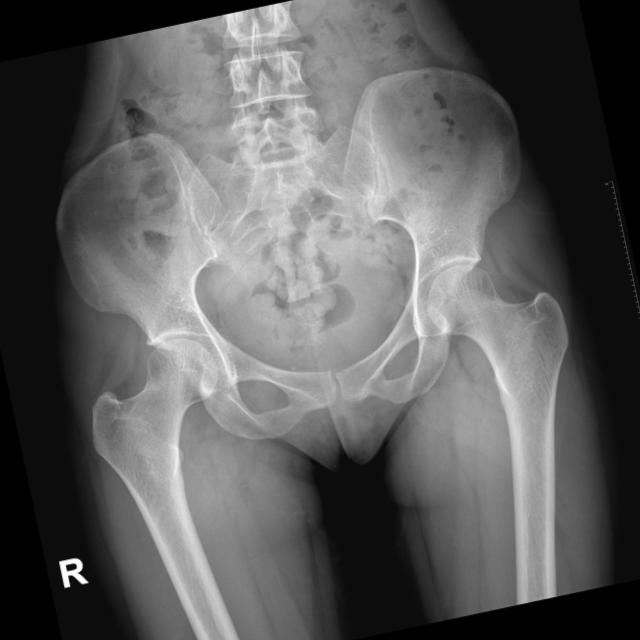normal-left: (426, 265, 569, 464)
normal-right: (92, 338, 218, 557)
